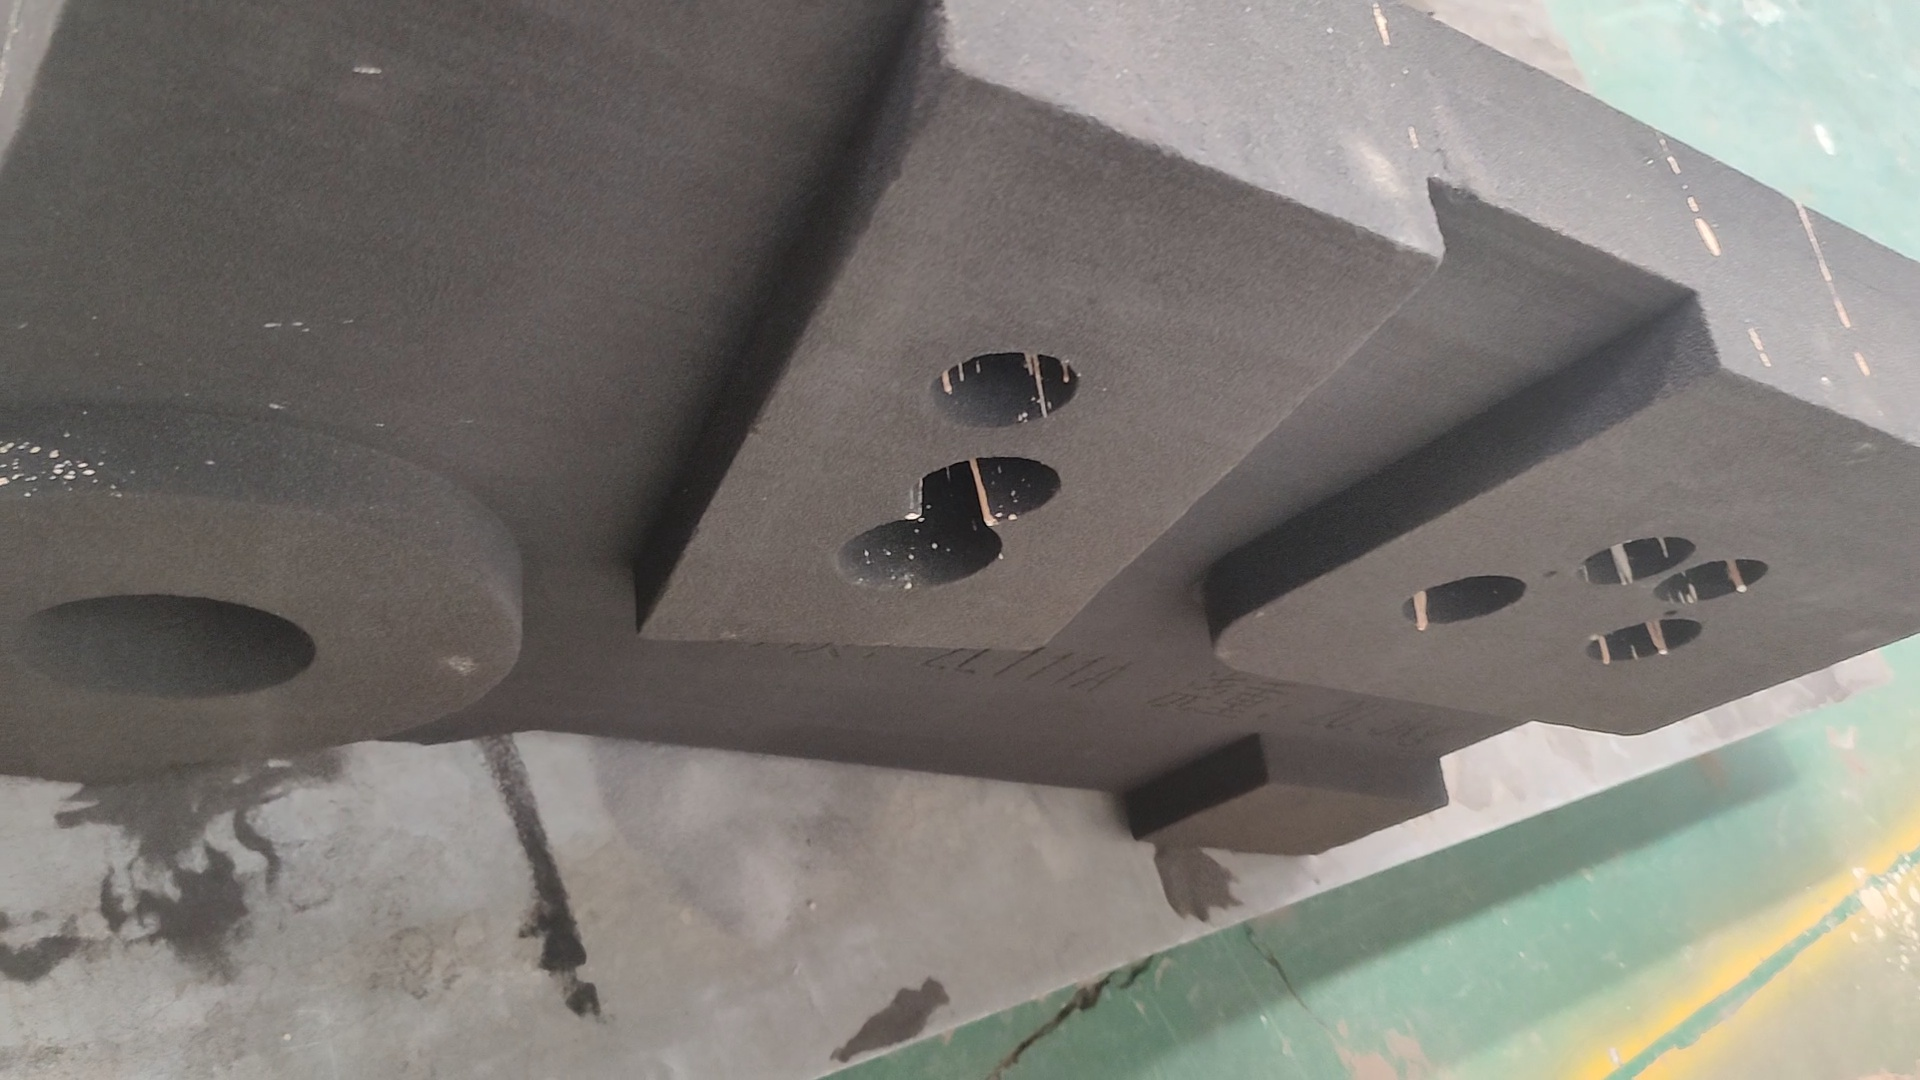pouring hole: (7, 596, 313, 699)
